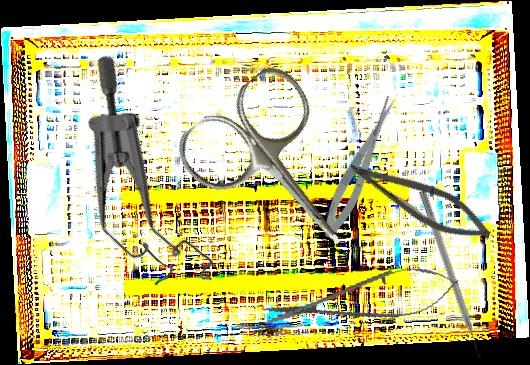Iris Scissors: (167, 57, 393, 289)
Micro Scissor: (257, 258, 463, 341), (340, 153, 499, 251), (315, 93, 406, 242)
Pusher: (416, 190, 484, 360)
Speculum: (10, 49, 278, 314)
